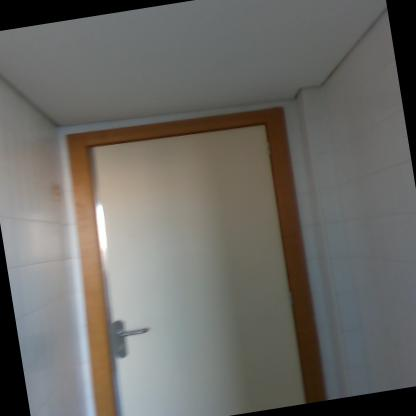closed: (30, 70, 355, 415)
